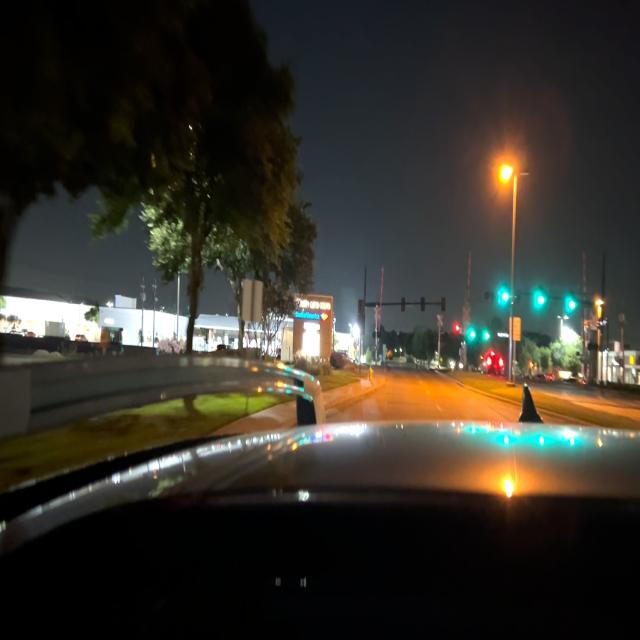back-of-sign: (242, 278, 262, 324)
